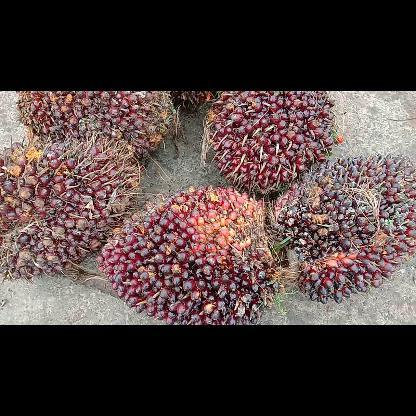Kurang masak: (93, 182, 291, 324), (264, 151, 414, 306), (0, 136, 142, 282), (202, 90, 340, 196), (13, 90, 181, 168)
